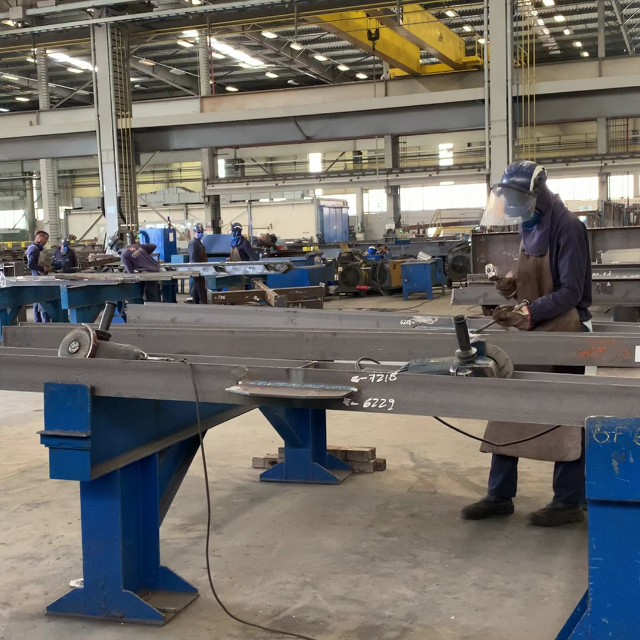face-shield: (479, 183, 535, 226)
glove: (491, 304, 533, 329), (495, 275, 518, 303)
helmet: (499, 159, 546, 190)
person: (456, 159, 587, 527)
safety-shoe: (530, 494, 584, 528), (460, 492, 513, 522)
